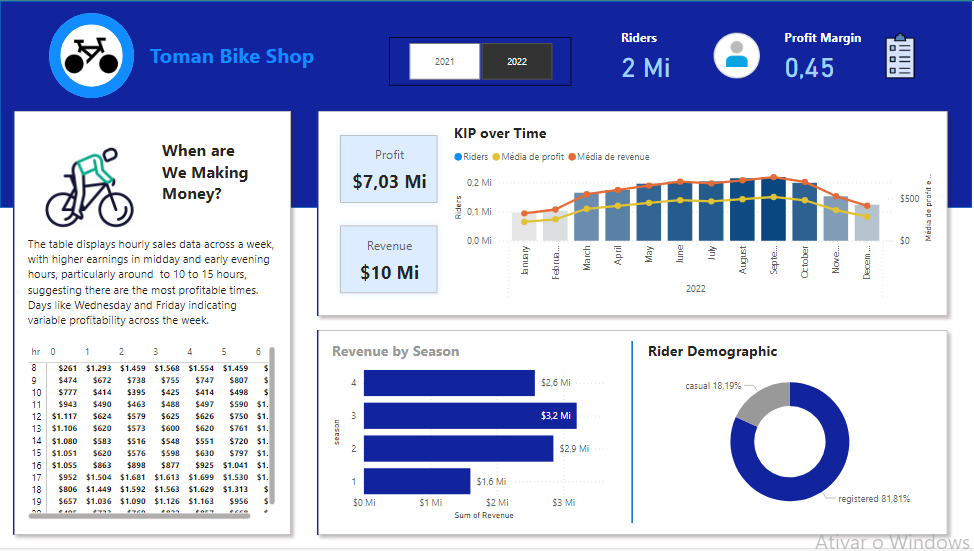

What the dashboard file says about the page in this screenshot:
{"tool":"powerbi","page":{"name":"Page 1","canvas":[1280,720],"ordinal":0},"visuals":[{"type":"shape","box":[0,0,1280,272],"z":0},{"type":"cardVisual","fields":{"Data":["Sum(Query2.riders)"]},"box":[0,128,400,592],"z":1000},{"type":"cardVisual","fields":{"Data":["Sum(Query2.riders)"]},"box":[400,128,864,304],"z":2000},{"type":"cardVisual","fields":{"Data":["Sum(Query2.riders)"]},"box":[400,416,864,304],"z":3000},{"type":"cardVisual","fields":{"Data":["Sum(Query2.riders)"]},"box":[32,160,176,144],"z":4000},{"type":"pivotTable","fields":{"Rows":["Query2.hr"],"Columns":["Query2.weekday"],"Values":["Avg(Query2.revenue)"]},"box":[32,448,336,240],"z":5000},{"type":"textbox","box":[208,176,144,112],"z":6000},{"type":"textbox","box":[32,304,336,144],"z":7000},{"type":"lineClusteredColumnComboChart","title":"KIP over Time","fields":{"Category":["Query2.dteday.Variation.Date Hierarchy.Year","Query2.dteday.Variation.Date Hierarchy.Month","Query2.dteday.Variation.Date Hierarchy.Day"],"Y":["Sum(Query2.riders)"],"Y2":["Avg(Query1.profit)","Avg(Query1.revenue)"]},"box":[592,160,640,240],"z":8000},{"type":"clusteredBarChart","title":"Revenue by Season","fields":{"Y":["Sum(Query1.revenue)"],"Category":["Query1.season"]},"box":[432,448,384,240],"z":9000},{"type":"donutChart","title":"Rider Demographic","fields":{"Category":["Query1.rider_type"],"Y":["Sum(Query1.riders)"]},"box":[848,448,384,240],"z":10000},{"type":"shape","box":[816,448,32,240],"z":11000},{"type":"cardVisual","title":"KIP over Time","fields":{"Data":["Sum(Query1.profit)","Sum(Query1.revenue)"]},"box":[432,160,160,240],"z":12000},{"type":"cardVisual","fields":{"Data":["Sum(Query1.riders)","Query1.Profit Margin"]},"box":[800,16,432,112],"z":13000},{"type":"shape","box":[64,16,112,112],"z":14000},{"type":"image","box":[80,32,80,80],"z":15000},{"type":"textbox","box":[192,48,352,64],"z":16000},{"type":"slicer","fields":{"Values":["Query1.Years"]},"box":[512,48,240,64],"z":17000}]}

Visuals, with their boxes on the page's 1280x720 design canvas (x1, y1, x2, y2). These are canvas units, not pixel positions in the 974x551 screenshot, which may show the page scaled, cropped or inside an application window:
shape: 0/0/1280/272
cardVisual - Sum(Query2.riders): 0/128/400/720
cardVisual - Sum(Query2.riders): 400/128/1264/432
cardVisual - Sum(Query2.riders): 400/416/1264/720
cardVisual - Sum(Query2.riders): 32/160/208/304
pivotTable - Query2.hr x Query2.weekday: 32/448/368/688
textbox: 208/176/352/288
textbox: 32/304/368/448
"KIP over Time" lineClusteredColumnComboChart: 592/160/1232/400
"Revenue by Season" clusteredBarChart: 432/448/816/688
"Rider Demographic" donutChart: 848/448/1232/688
shape: 816/448/848/688
"KIP over Time" cardVisual: 432/160/592/400
cardVisual - Sum(Query1.riders) x Query1.Profit Margin: 800/16/1232/128
shape: 64/16/176/128
image: 80/32/160/112
textbox: 192/48/544/112
slicer - Query1.Years: 512/48/752/112
